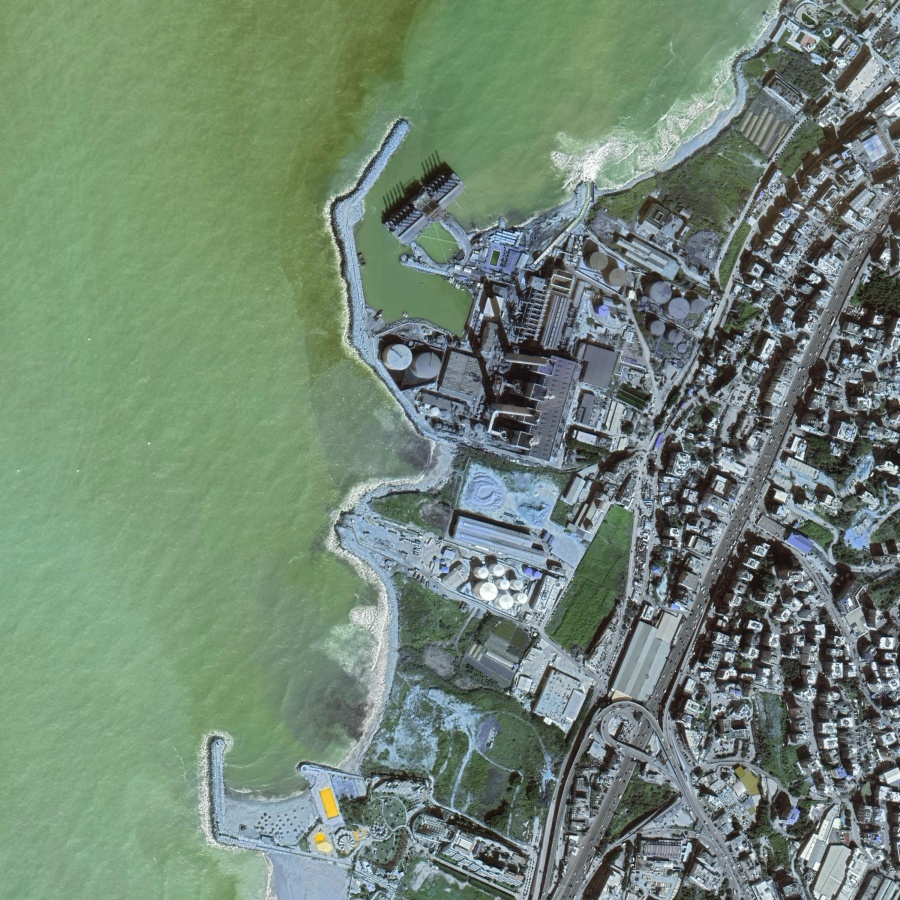PowerPlant: (370, 176, 715, 607)
